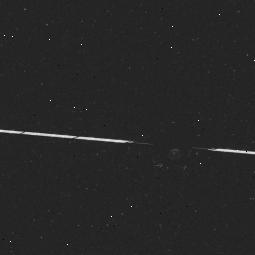smart_1: (15, 120, 249, 173)
